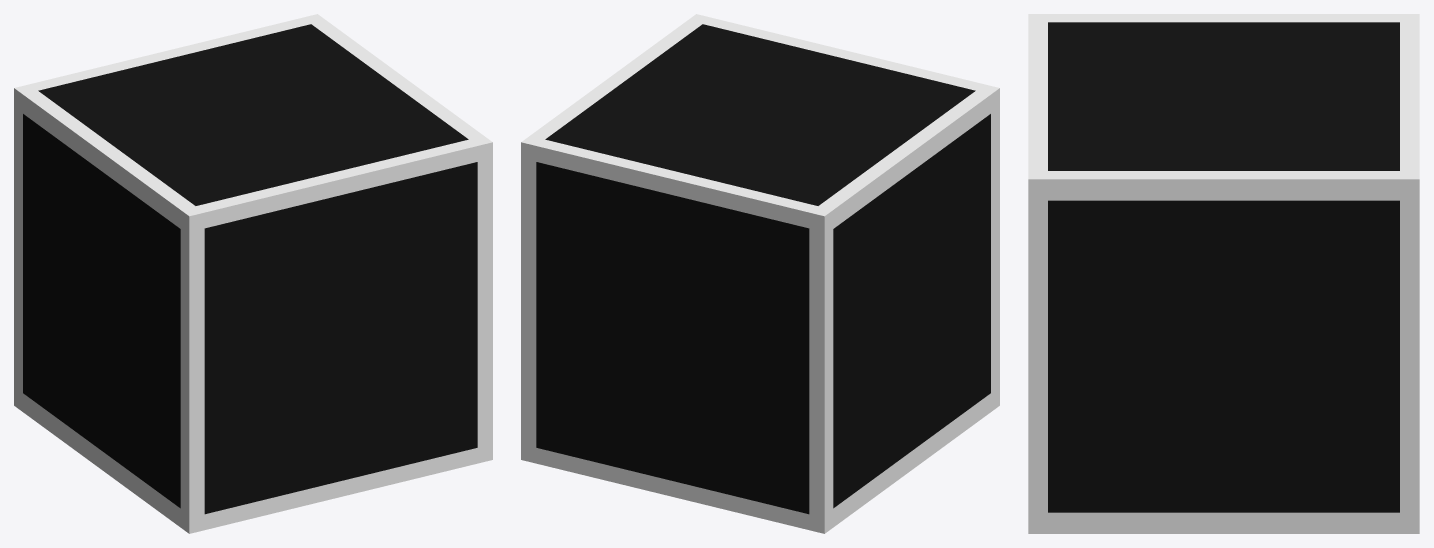
File: block.fbx
The picture shows the model from 3 angles, left to right: view 1: azimuth 30°, elevation 25°; view 2: azimuth 150°, elevation 25°; view 3: azimuth 270°, elevation 25°; orthographic projection. The views are drawn at different scales.
Parts seen in each view (by area): view 1: block; view 2: block; view 3: block.
Boxes of the visible parts, left/top/right/bottom form: block: left=14, top=14, right=492, bottom=533; block: left=521, top=14, right=999, bottom=533; block: left=1028, top=14, right=1419, bottom=533.
Size of the model in its own units: 99.79 by 99.79 by 99.79.
